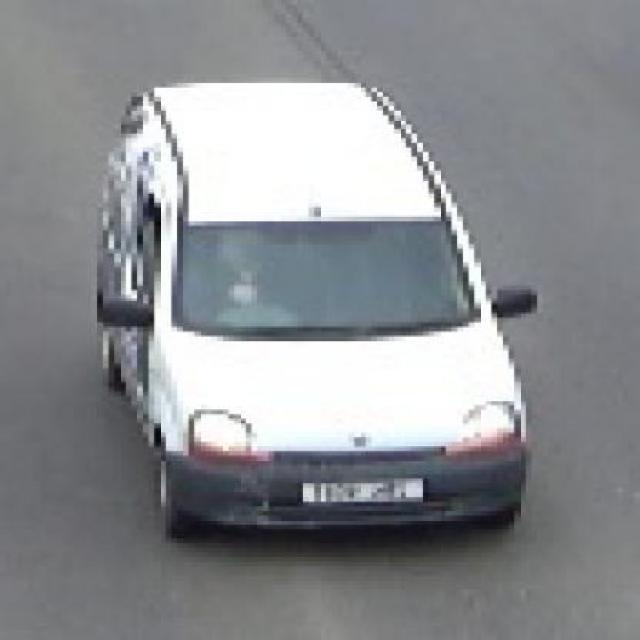vehicle: (88, 66, 546, 559)
